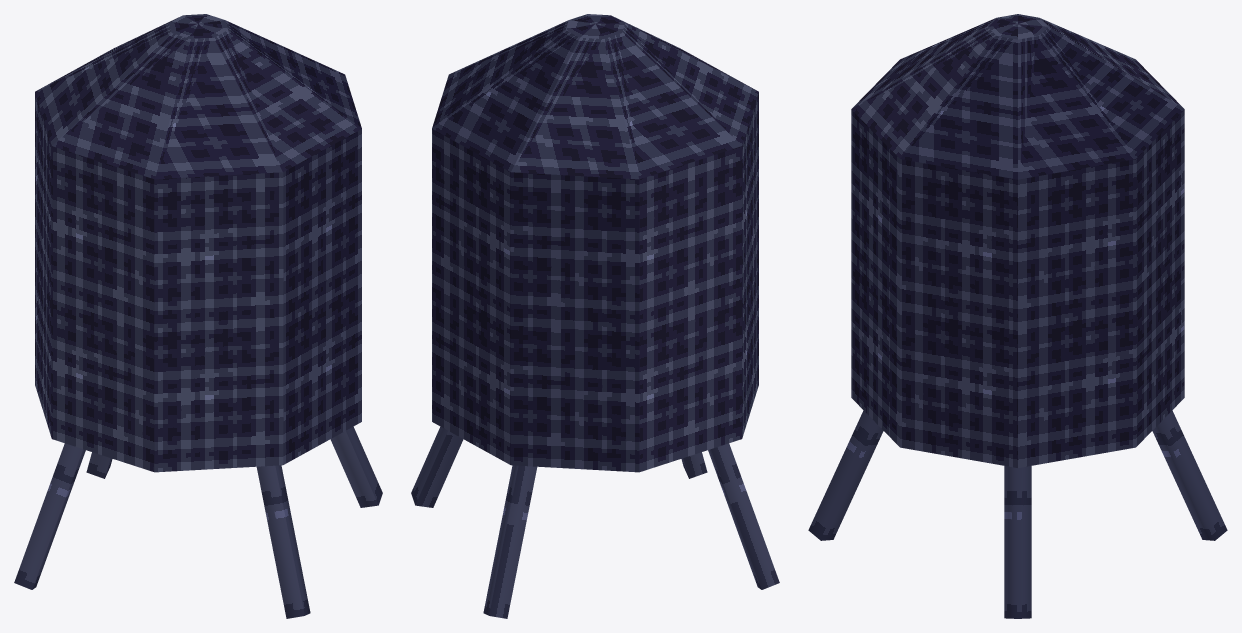
File: cydress.water_tank.glb
3 views of the same model, side by side, from view 1: azimuth 30°, elevation 25°; view 2: azimuth 150°, elevation 25°; view 3: azimuth 270°, elevation 25° (orthographic).
Visible parts, largest first — view 1: kit_body; view 2: kit_body; view 3: kit_body.
Boxes of the visible parts, x1,y1,x2,y2 form: kit_body: [14, 14, 382, 618]; kit_body: [411, 14, 779, 618]; kit_body: [808, 14, 1227, 618].
Size of the model in its own units: 2.77 by 3.75 by 2.77.
2 materials, 2 textured.
